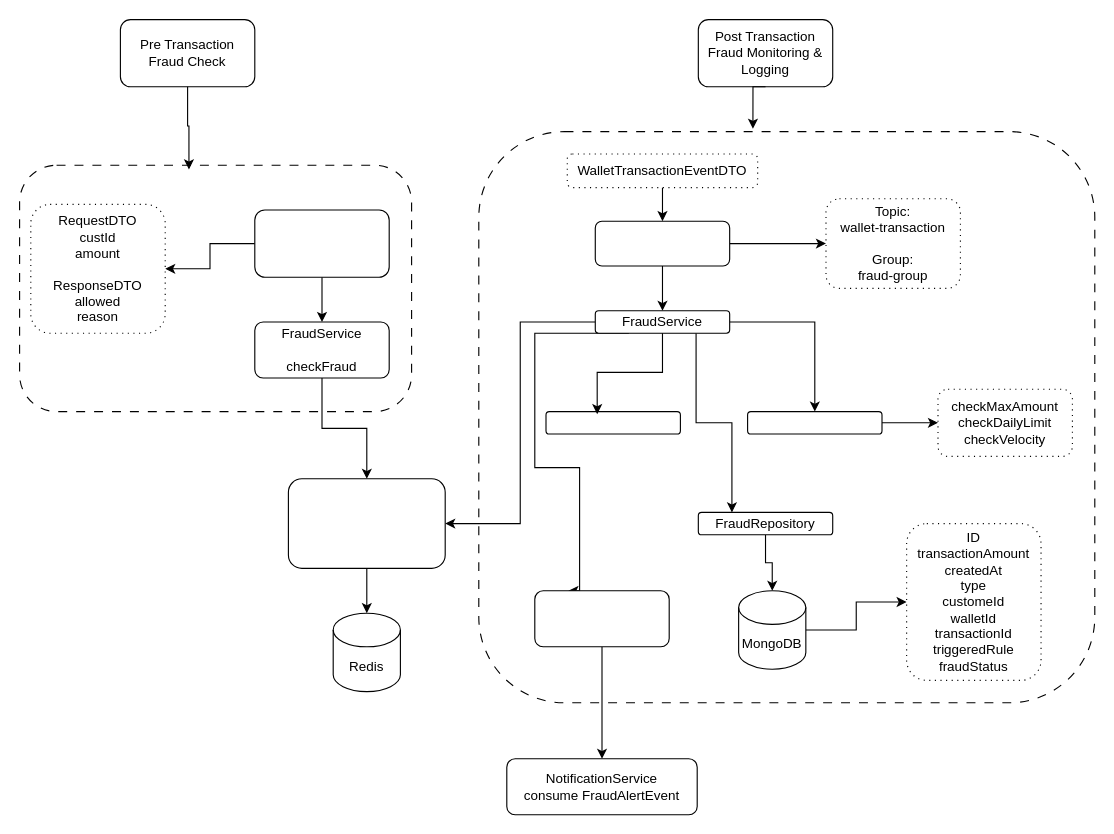
Image size: 1114x834. Some labels were removed from this diagram. Here are the shapes that lost their labels. From the top down, the centre of each, then its label:
At point (321, 243): "FraudController /fraud/check".
At point (662, 243): "@KafkaListener FraudConsumer".
At point (612, 422): "FraudMapper".
At point (814, 422): "RuleChcekEngine".
At point (366, 523): "RedisService incrementTxnAmount() getDailyAmount() updateVelocityCounter()".
At point (601, 618): "FraudProducer FraudAlertEvent".
